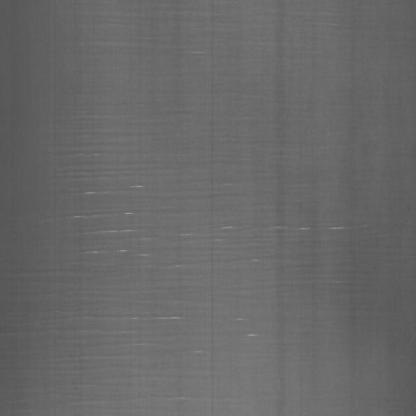waist_folding: (60, 20, 331, 388)
